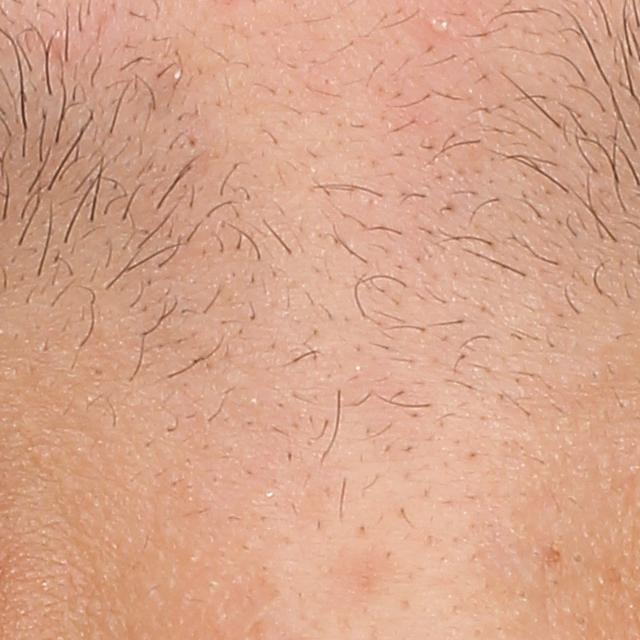comedo: (566, 547, 590, 572)
pustule: (429, 14, 449, 36)
